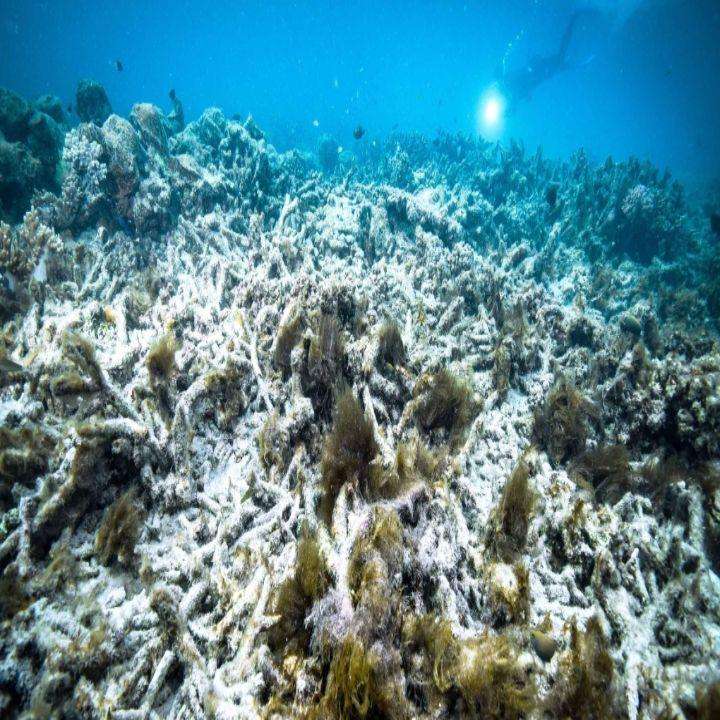Dead Coral: (47, 156, 663, 626)
